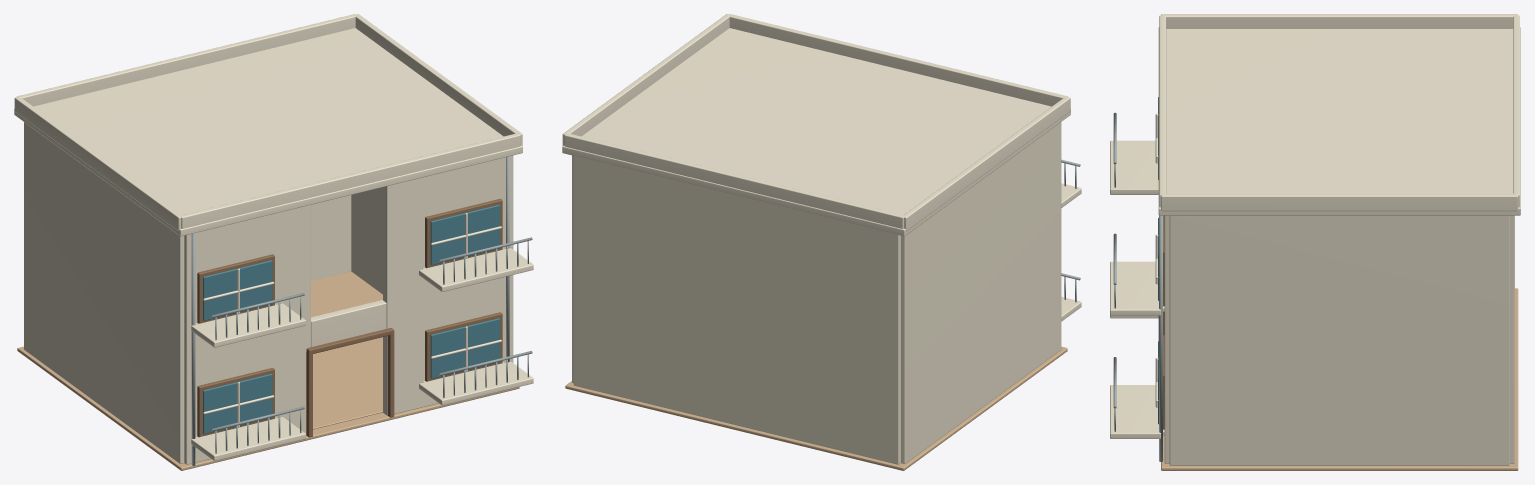
File: apartment.glb
3 renders of one model, left to right at view 1: azimuth 30°, elevation 25°; view 2: azimuth 150°, elevation 25°; view 3: azimuth 270°, elevation 25°, orthographic. The views are drawn at different scales.
Parts seen in each view (by area): view 1: cream, glass, sand, wood, metal; view 2: cream, sand; view 3: cream, sand, metal, wood.
Boxes of the visible parts, bbox=[...] form: cream: bbox=[14, 14, 533, 464]; glass: bbox=[203, 204, 500, 434]; sand: bbox=[17, 271, 519, 470]; wood: bbox=[197, 198, 502, 437]; metal: bbox=[191, 156, 532, 465]; cream: bbox=[562, 14, 1081, 464]; sand: bbox=[565, 346, 1067, 470]; cream: bbox=[1110, 14, 1520, 465]; sand: bbox=[1161, 288, 1518, 470]; metal: bbox=[1113, 112, 1162, 461]; wood: bbox=[1158, 215, 1164, 429].
Bounding box in the file's own units: 12.7 × 8.97 × 12.07.
